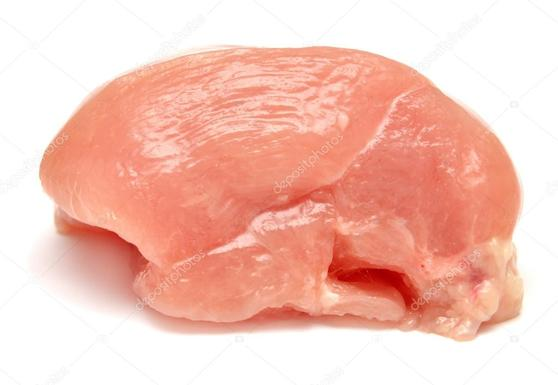chicken_fillet: (39, 40, 528, 337)
